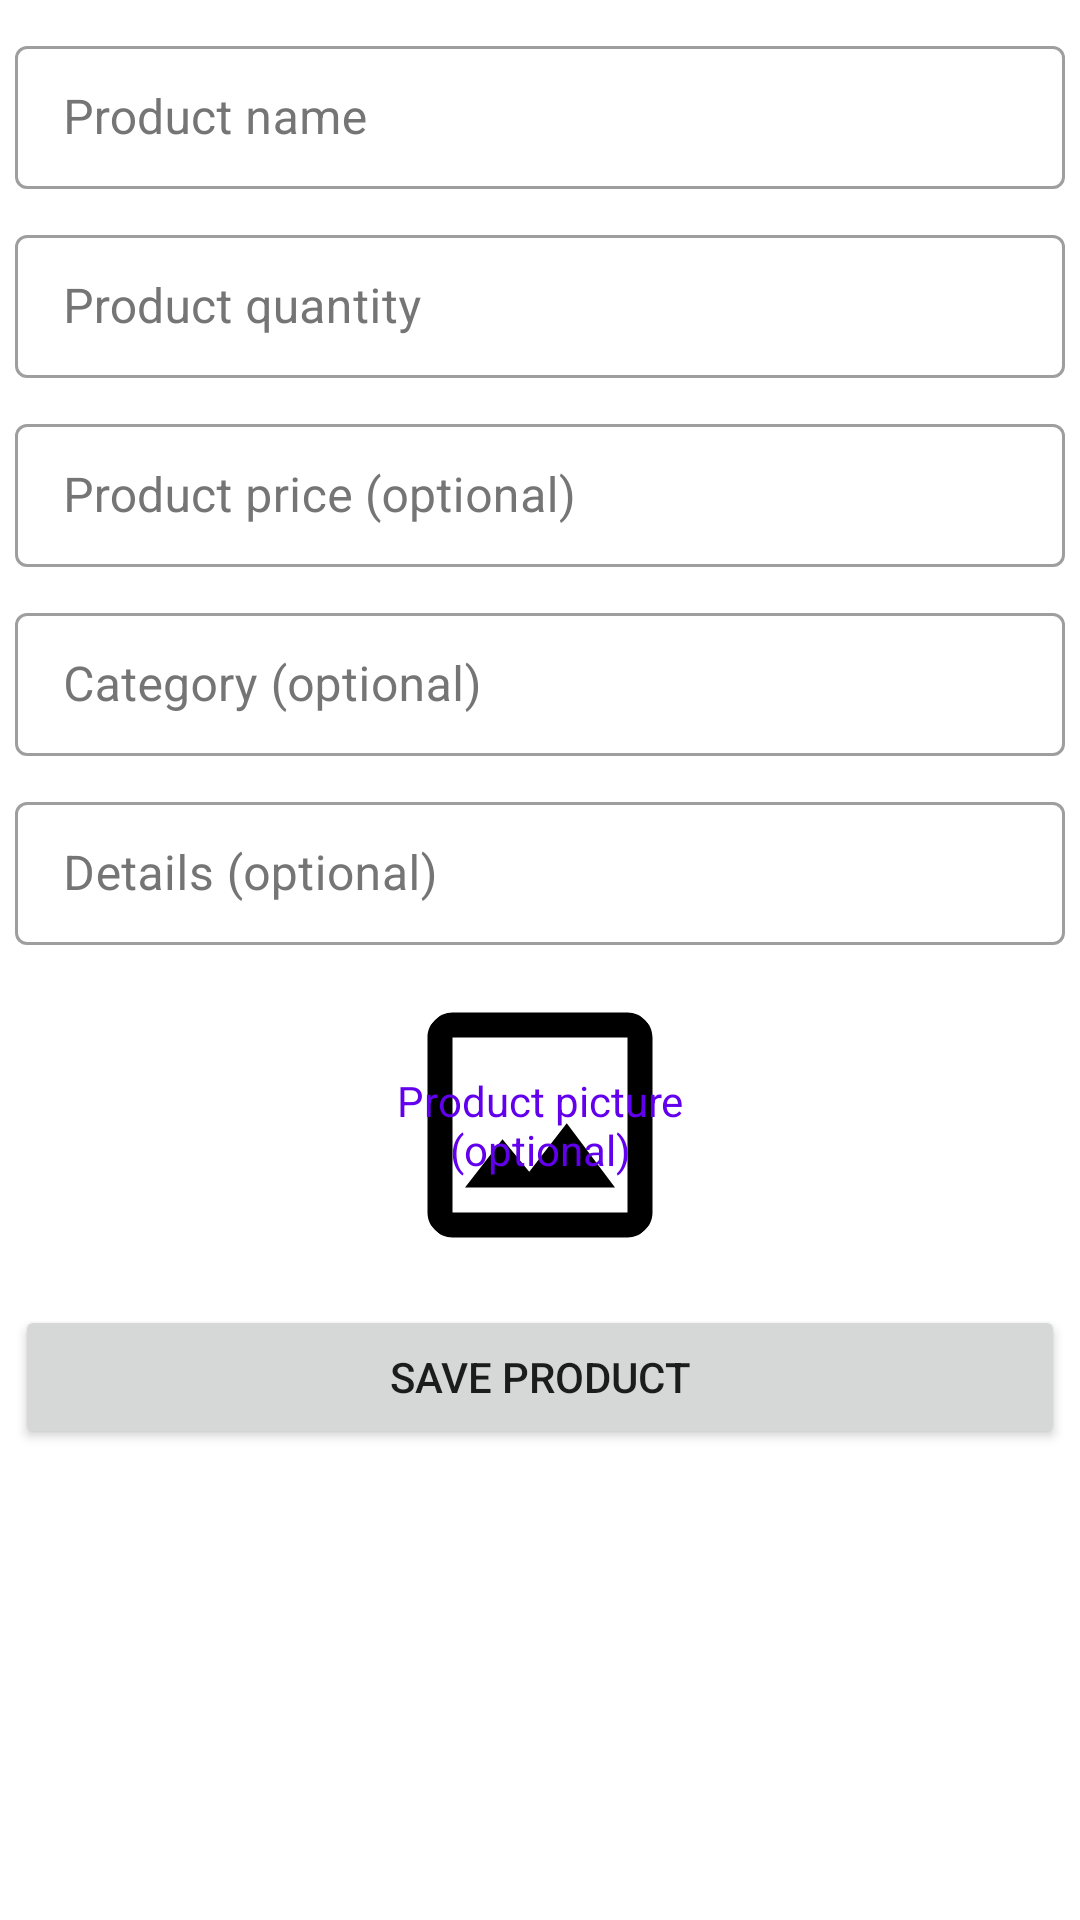

Screen size 1080 × 1920. Icon name, then its box in pixels as (x1, y1, x2, y2):
empty photo: (400, 1012, 682, 1238)
